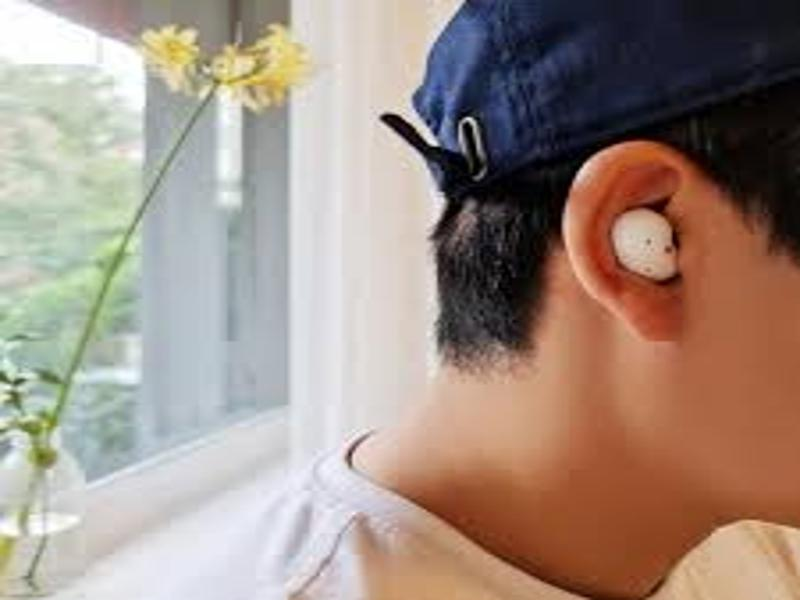headphone: (608, 204, 681, 280)
